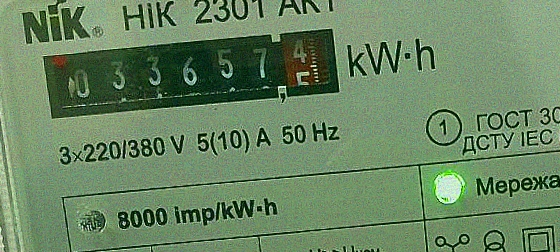0: (69, 63, 93, 102)
3: (106, 56, 128, 93), (142, 52, 163, 89)
4: (288, 35, 310, 66)
5: (212, 44, 237, 82)
6: (176, 52, 199, 89)
7: (249, 43, 270, 81)
screen: (29, 20, 348, 128)
